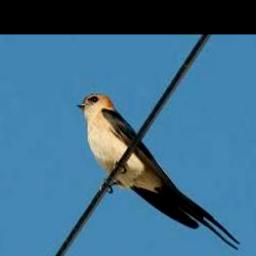Swallow: (76, 93, 241, 251)
